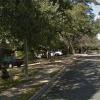Tree: (5, 0, 100, 43)
